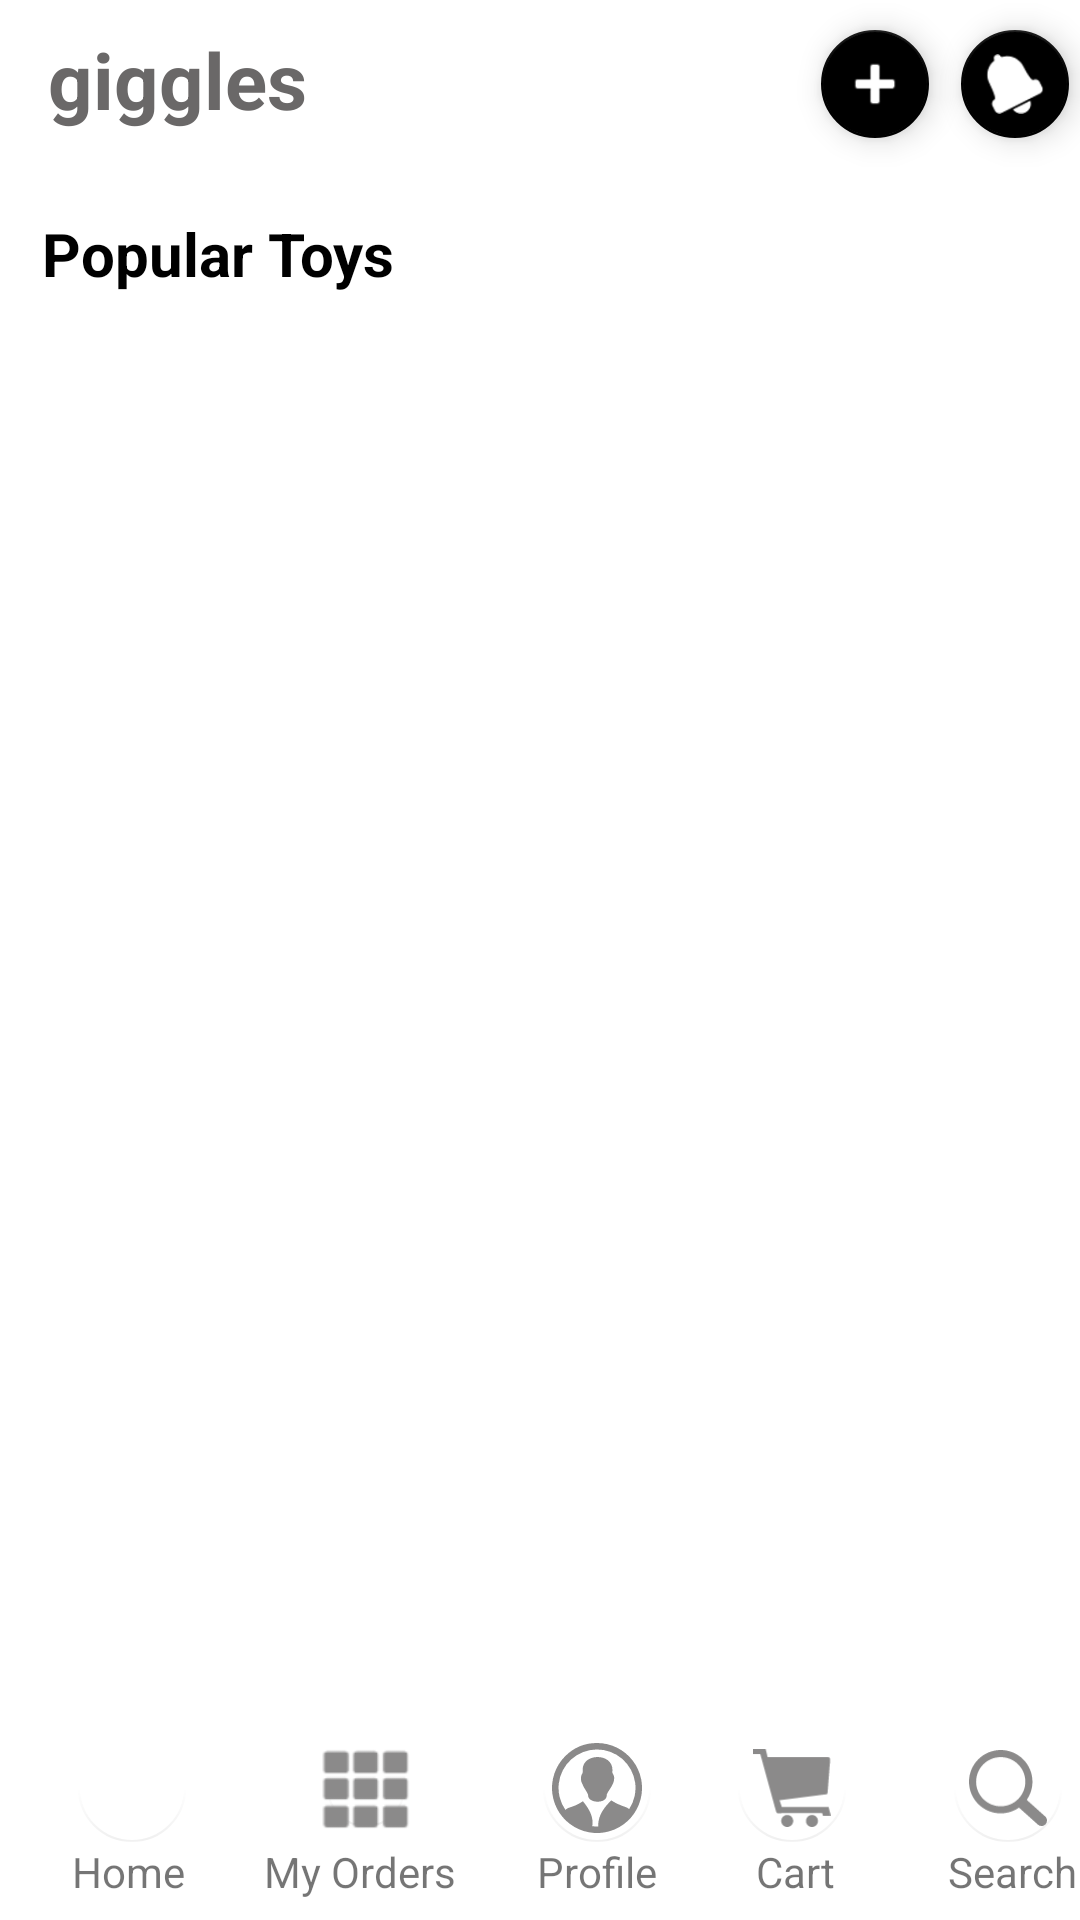

Icons on this 1080×1920 Android screen, each with its box as bbox=[x1, y1, x2, y2]:
add: bbox=[821, 30, 931, 139]
dialer: bbox=[323, 1751, 408, 1828]
popup reminder: bbox=[961, 30, 1072, 139]
